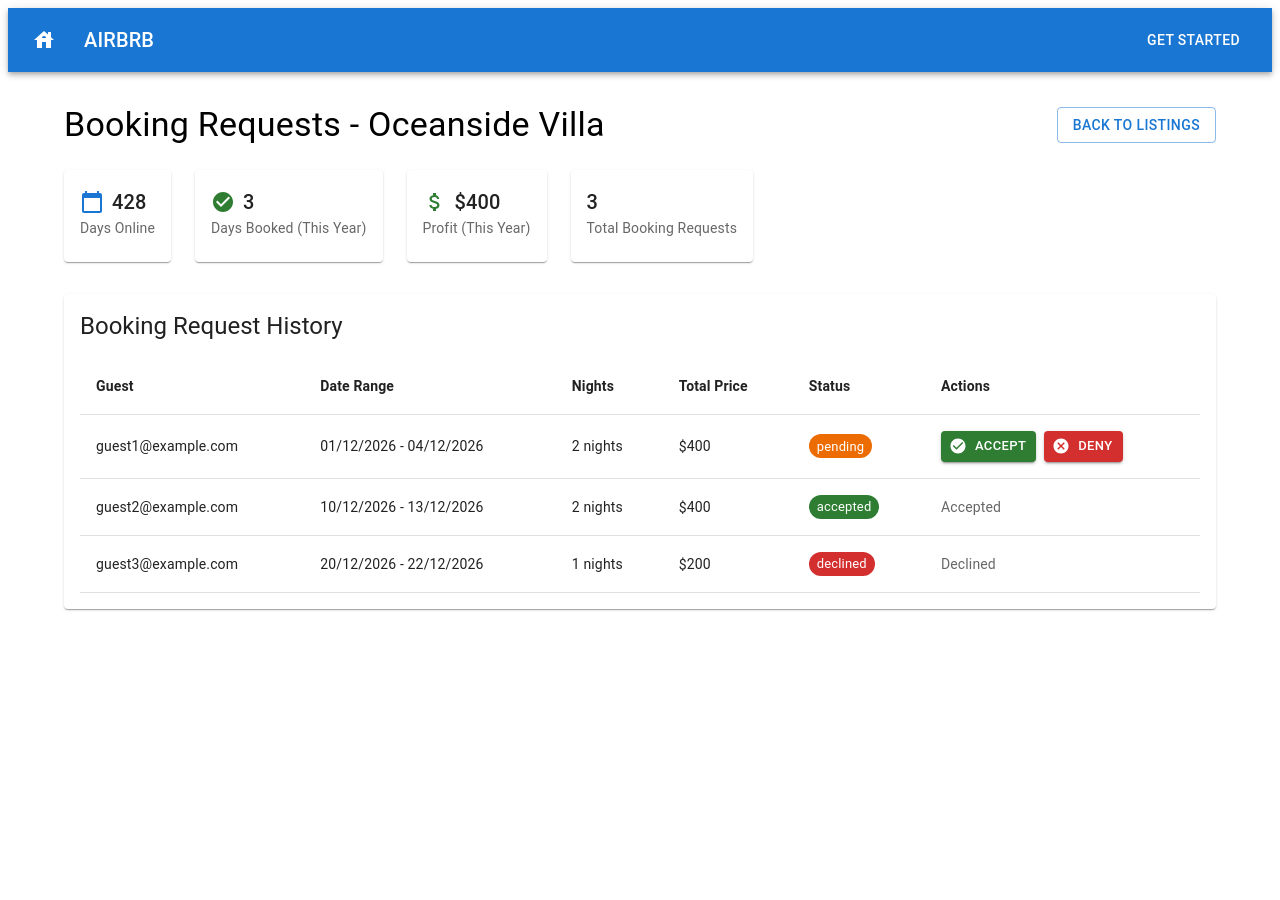
it: BookingRequests › displays success message after accepting booking
The image size is (1280, 900).
Step 1. Click the button "Accept" → click(989, 446), box [941, 431, 1036, 462]
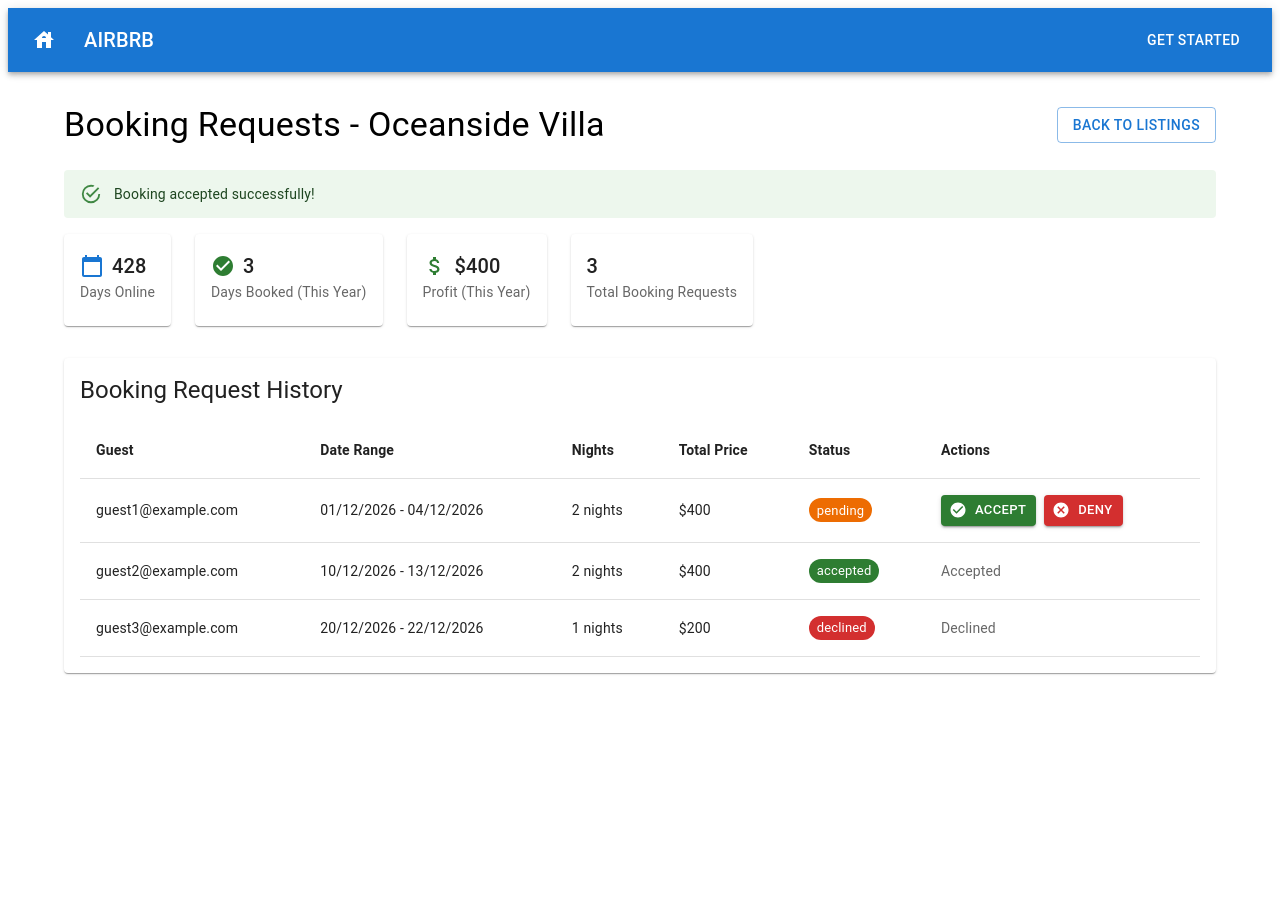
Now the text "Booking accepted successfully!" is shown, box [114, 186, 315, 202]
